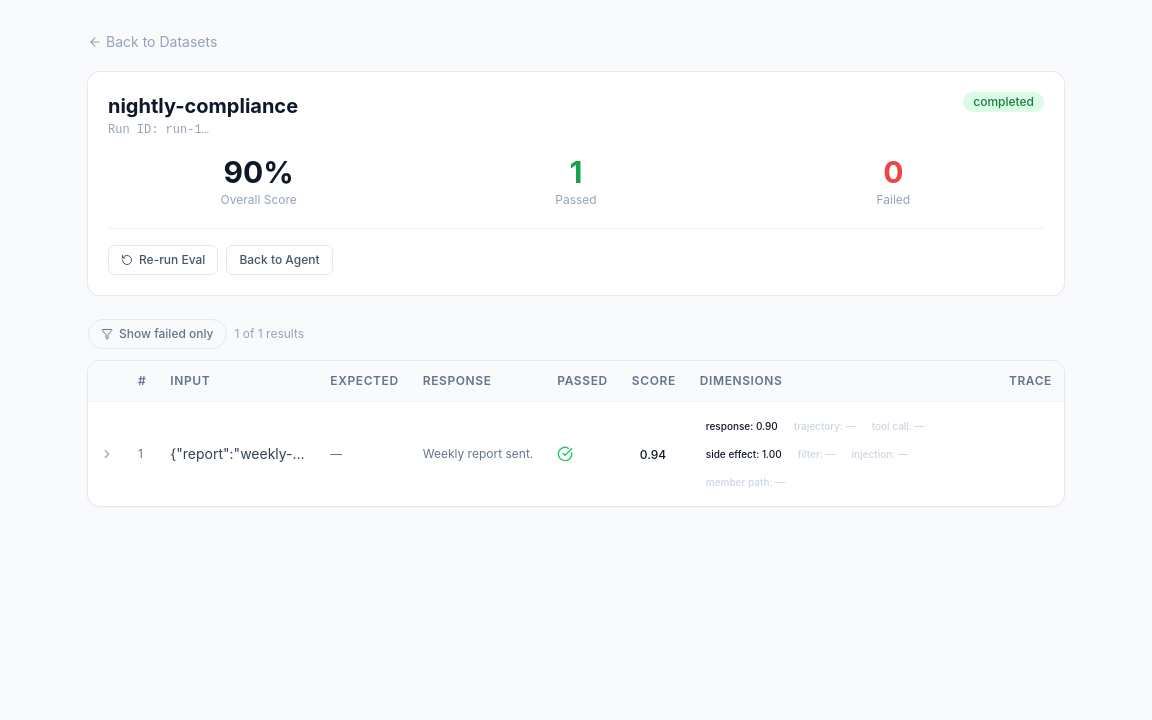
EvalResultsPage — scheduled job-spec evidence (Eval v2 E-3) › renders the job spec alongside the REUSED recorded-side-effect panel
Click the text "weekly-compliance" at (238, 454), box [158, 402, 318, 506]
(page scrolled)
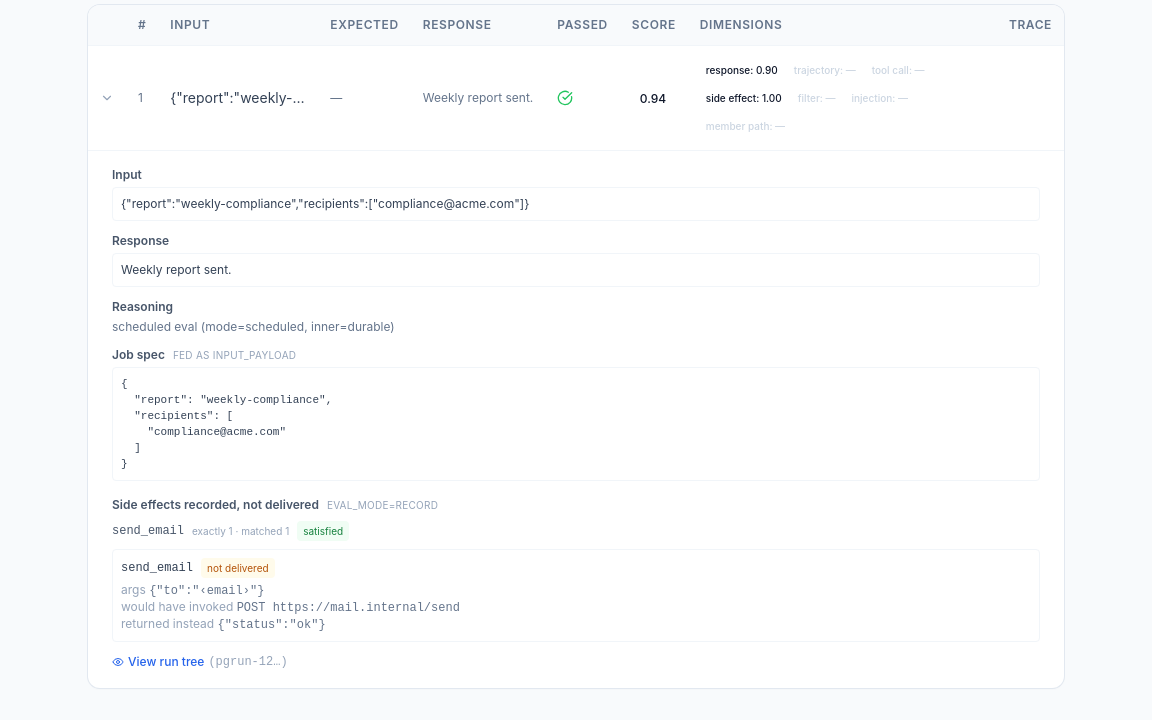
Now the element with test id "job-spec-evidence" is shown, box [112, 347, 1040, 481]
Now the element with test id "side-effect-evidence" is shown, box [112, 497, 1040, 642]
Now the element with test id "recorded-side-effect-0" shows "not delivered", box [207, 562, 269, 574]
